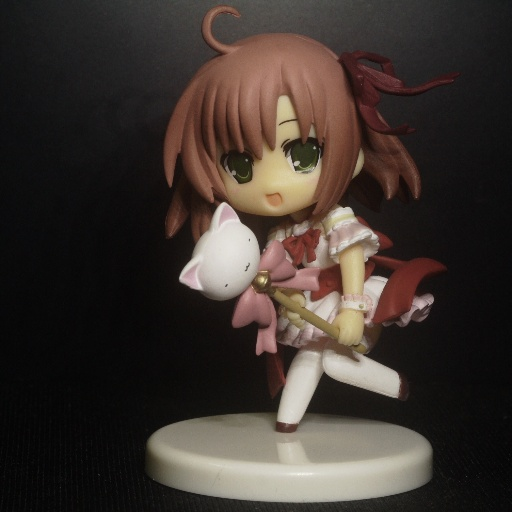hand: (330, 308, 363, 345), (283, 288, 308, 331)
